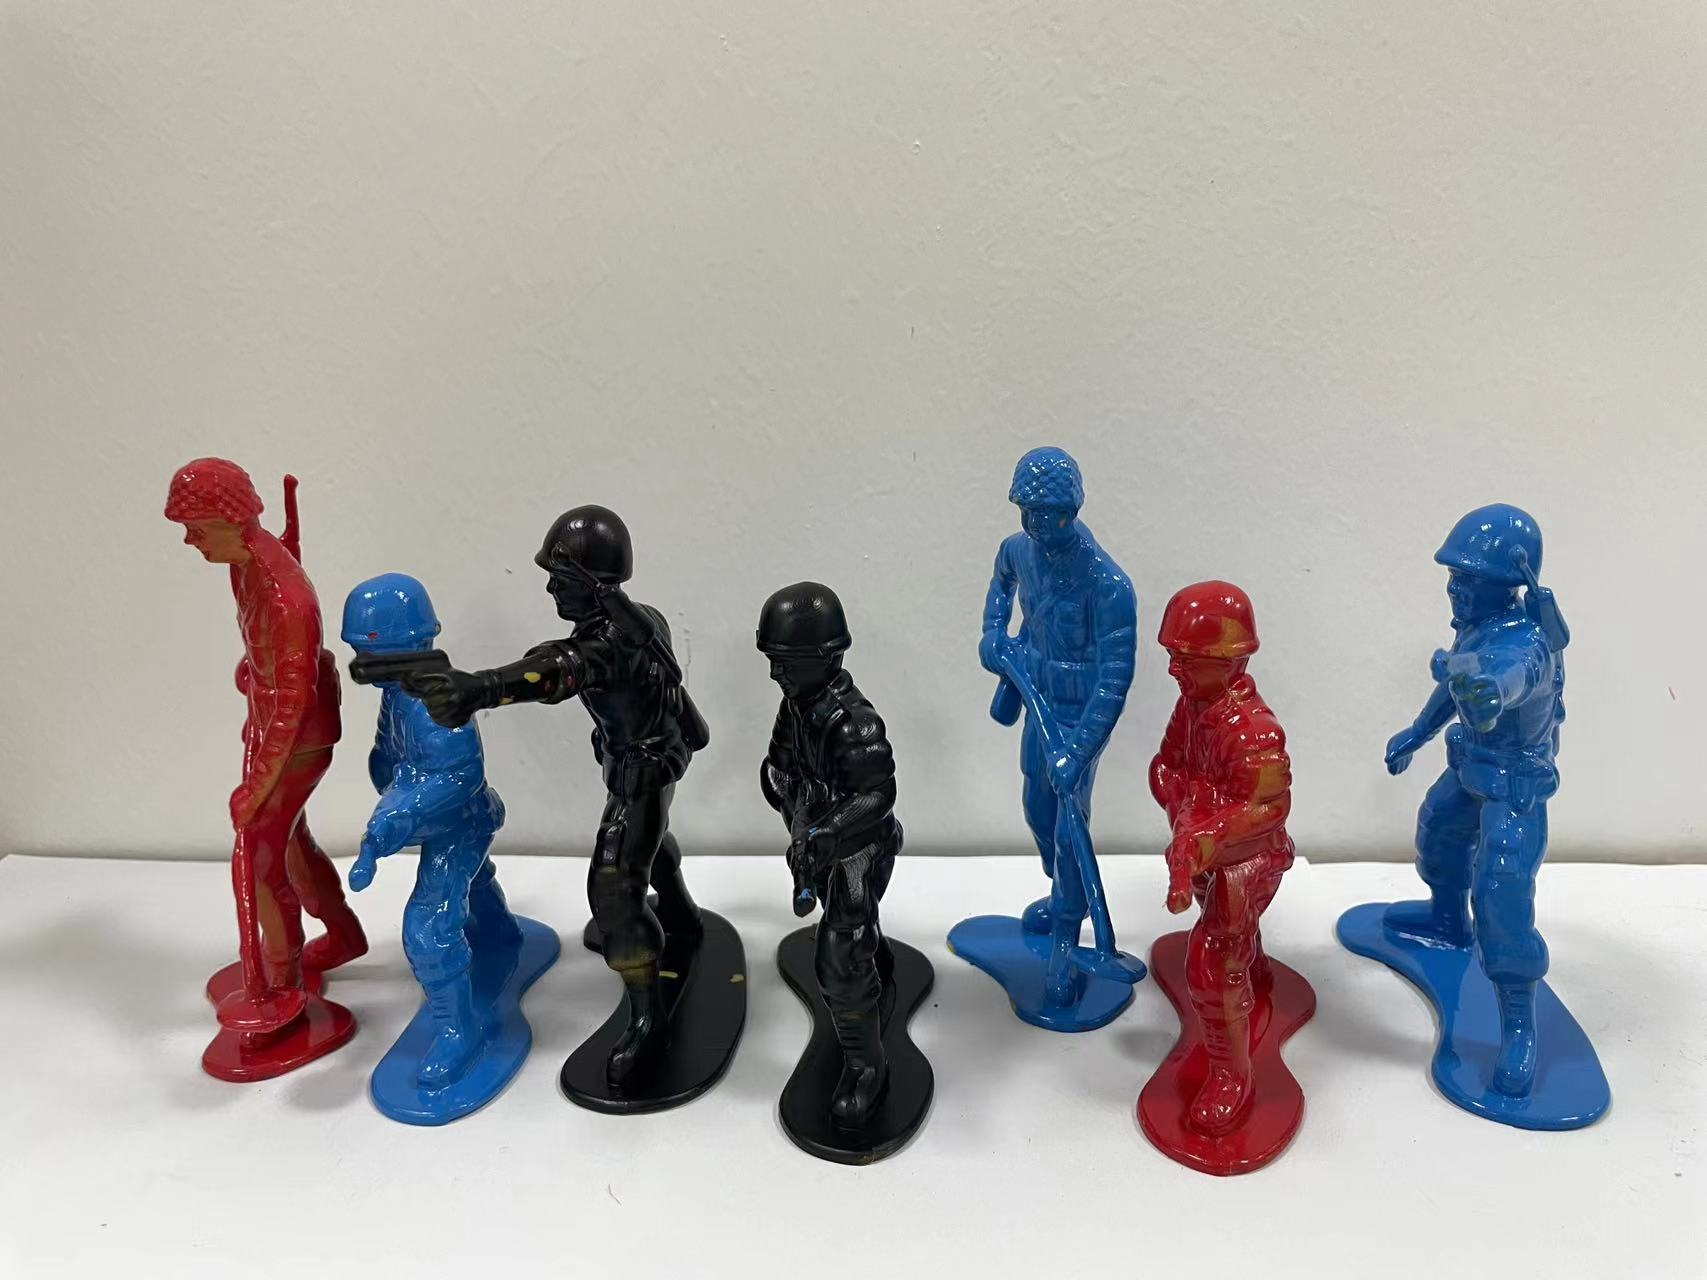black: (474, 481, 737, 1129), (730, 555, 949, 1182)
blue: (1325, 473, 1649, 1137), (337, 561, 550, 1158), (944, 440, 1147, 1043)
red: (130, 430, 345, 1089), (1134, 563, 1327, 1194)
